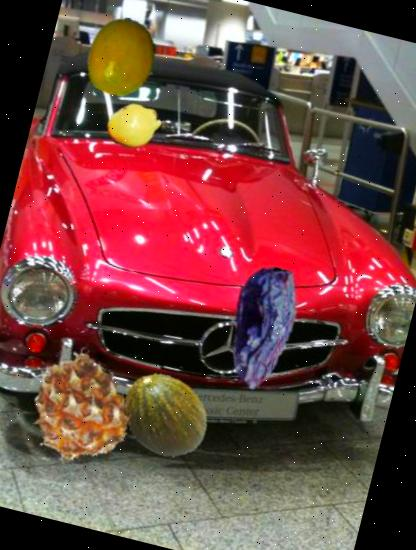Dates: (186, 252, 338, 404)
Maracuja: (74, 9, 170, 105)
Melon: (113, 363, 218, 468)
Pineapple: (10, 340, 145, 476)
Quince: (102, 93, 169, 160)
